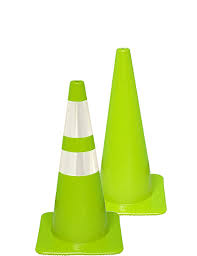cones: (36, 80, 125, 255), (97, 49, 166, 216)
